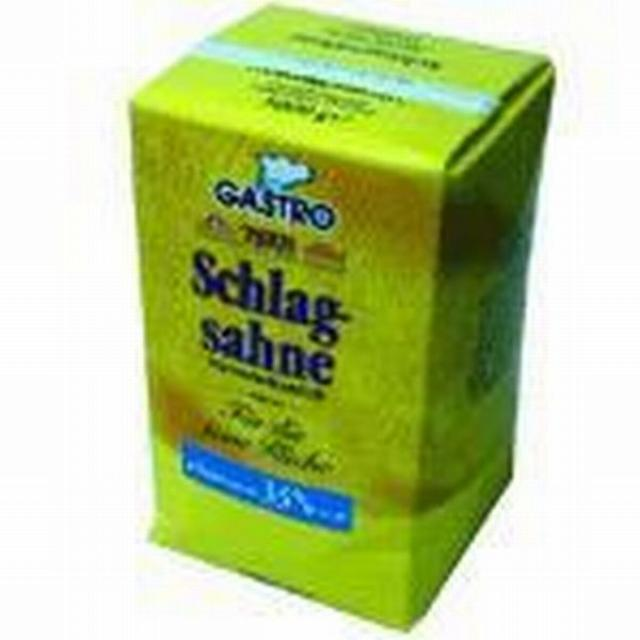Cream: (131, 5, 556, 628)
